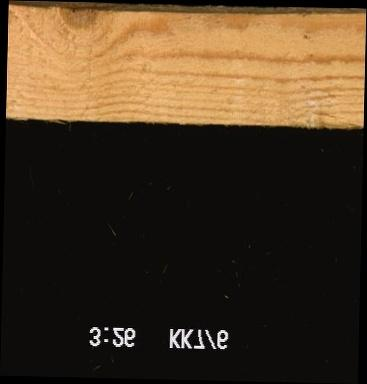edge_knot: (54, 5, 99, 42)
